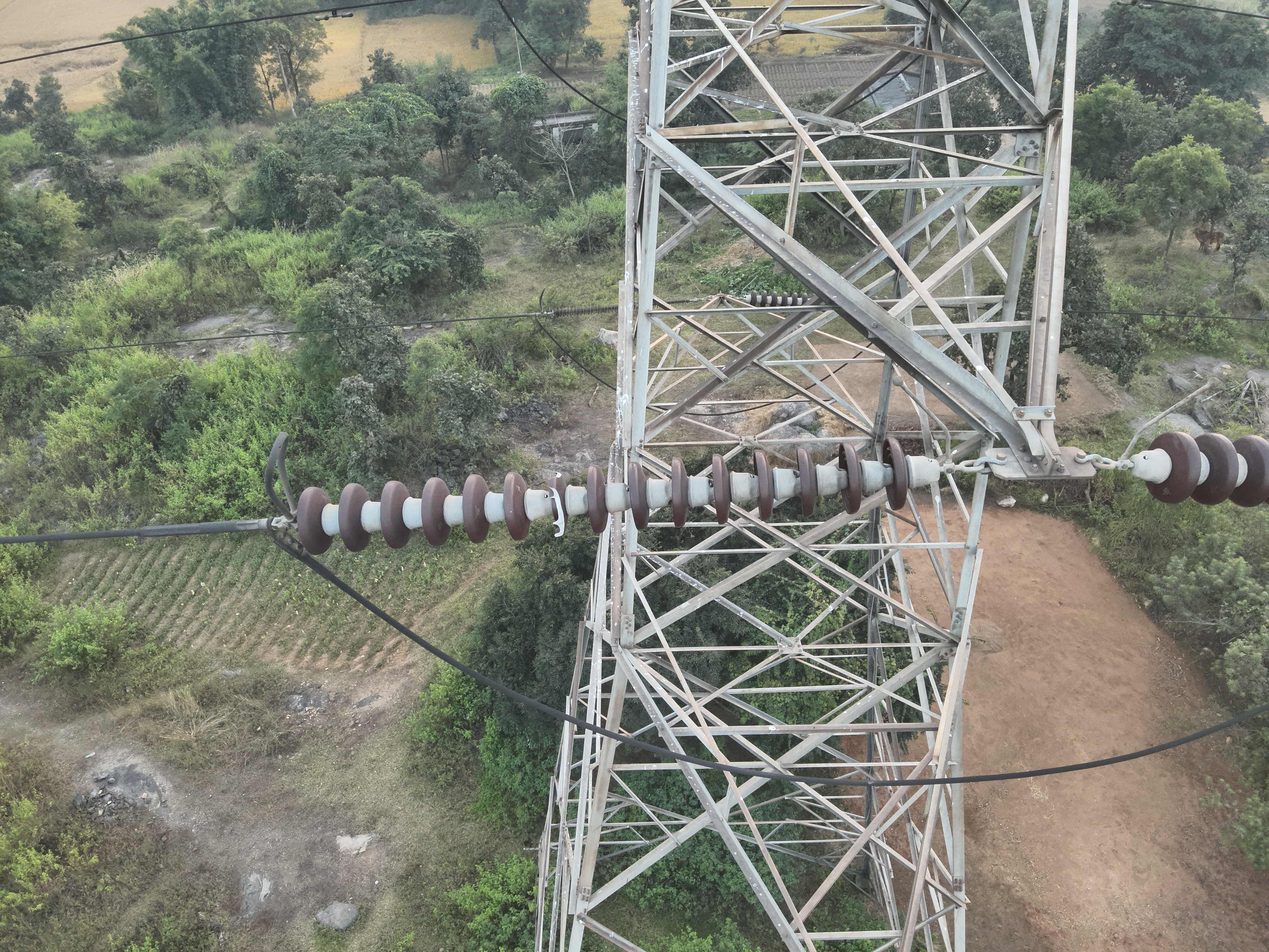broken_insulator: (538, 466, 576, 540)
